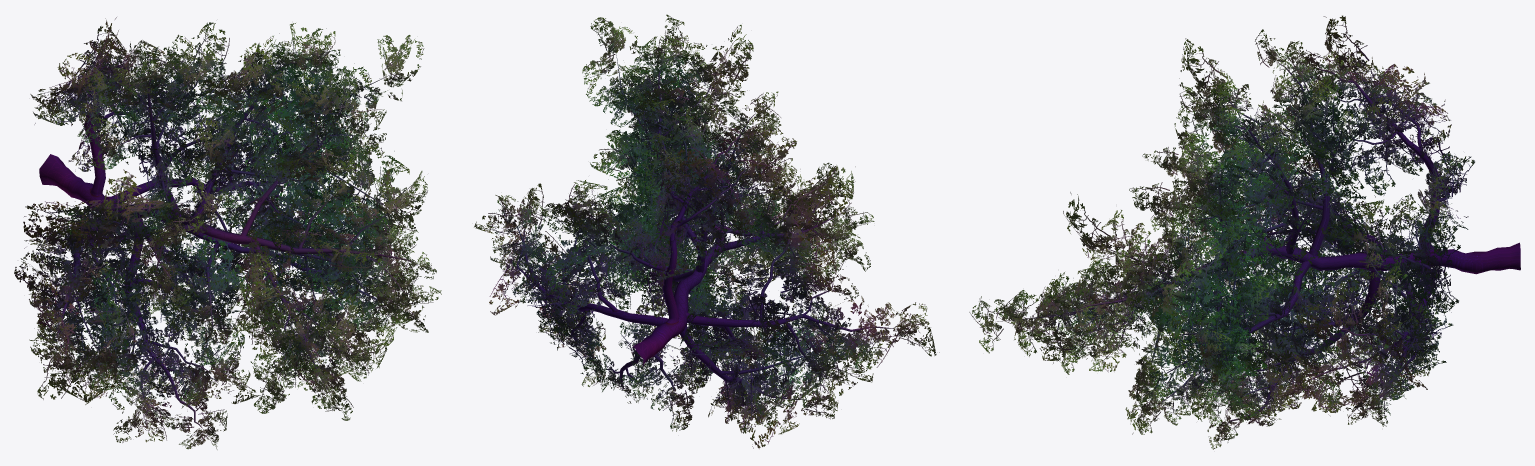
Rendered from oak_large_oak_tree_001_lod0.glb.
3 renders of one model, left to right at view 1: azimuth 30°, elevation 25°; view 2: azimuth 150°, elevation 25°; view 3: azimuth 270°, elevation 25°, orthographic. The views are drawn at different scales.
Parts seen in each view (by area): view 1: Large_oak_tree_001_LOD0; view 2: Large_oak_tree_001_LOD0; view 3: Large_oak_tree_001_LOD0.
Part boxes in pixels (left/top/right/bottom): Large_oak_tree_001_LOD0: left=14, top=17, right=441, bottom=449; Large_oak_tree_001_LOD0: left=474, top=14, right=939, bottom=448; Large_oak_tree_001_LOD0: left=969, top=15, right=1520, bottom=449.
Bounding box in the file's own units: 23.3 × 22.59 × 26.51.
2 materials, 2 textured.
